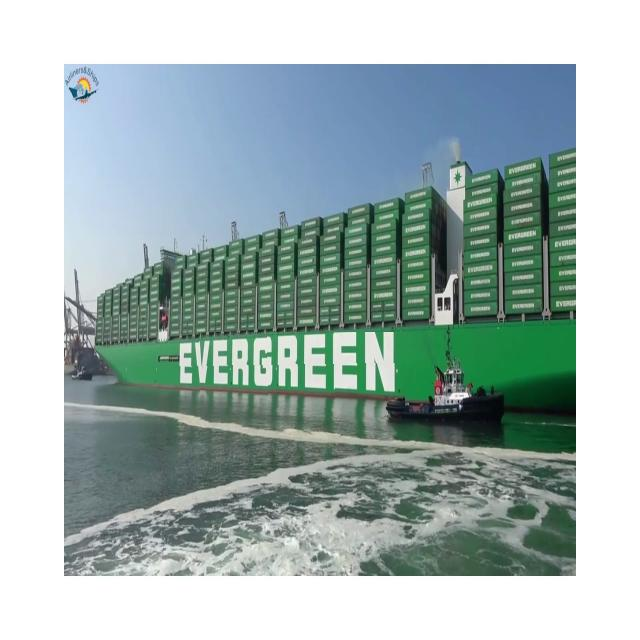OCR: (165, 332, 405, 410)
